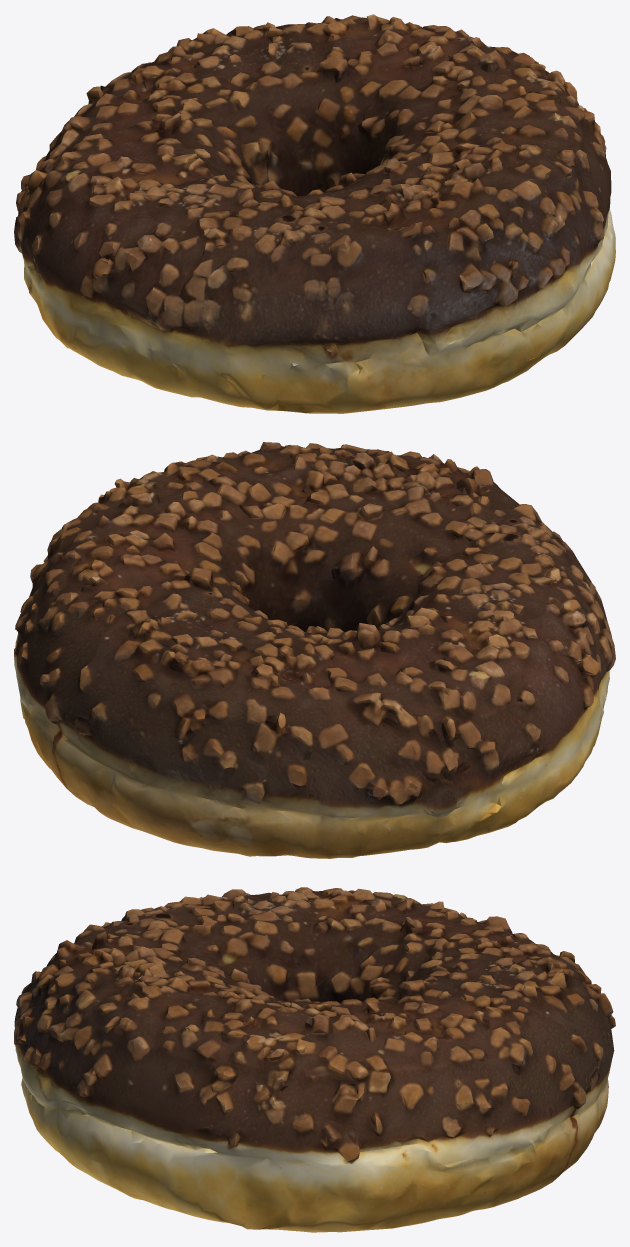
Rendered from asset.gltf.
The picture shows the model from 3 angles, top to bottom: view 1: azimuth 30°, elevation 25°; view 2: azimuth 150°, elevation 25°; view 3: azimuth 270°, elevation 25°; orthographic projection. The views are drawn at different scales.
Visible parts, largest first — view 1: donut; view 2: donut; view 3: donut.
Part boxes in pixels (x1,y1,x2,y2): donut: [14, 14, 615, 413]; donut: [14, 442, 615, 858]; donut: [14, 887, 615, 1232].
Bounding box in the file's own units: 0.1019 × 0.0413 × 0.107.
1 material, 1 textured.
